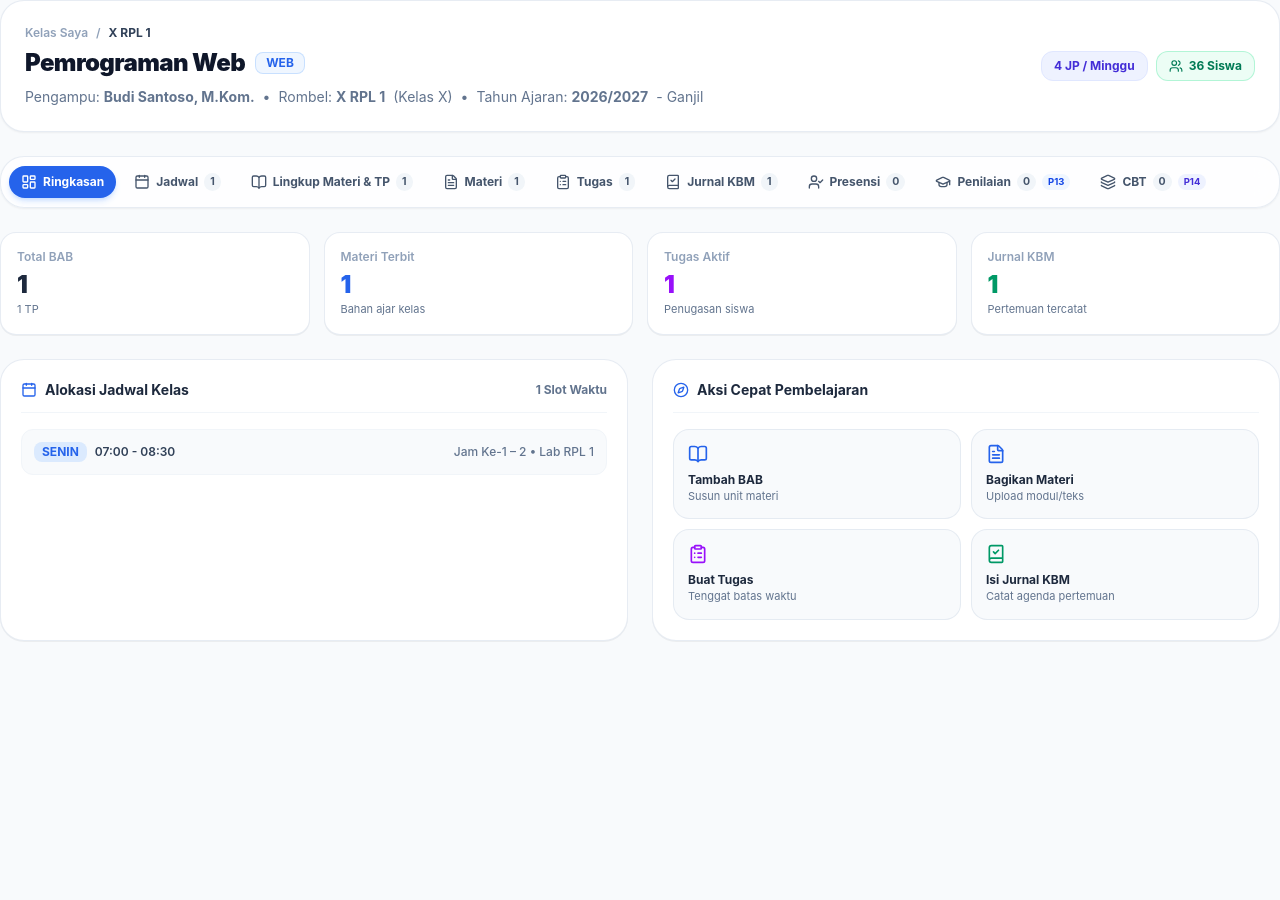
Test: M11 Learning Presentation Views › ClassWorkspaceView (/kelas-saya/[id]) › switches to Jurnal KBM tab and renders class journal entries
The width and height of the screenshot is (1280, 900).
Click the button "Jurnal KBM 1": (721, 182) left=653, top=165, right=790, bottom=199
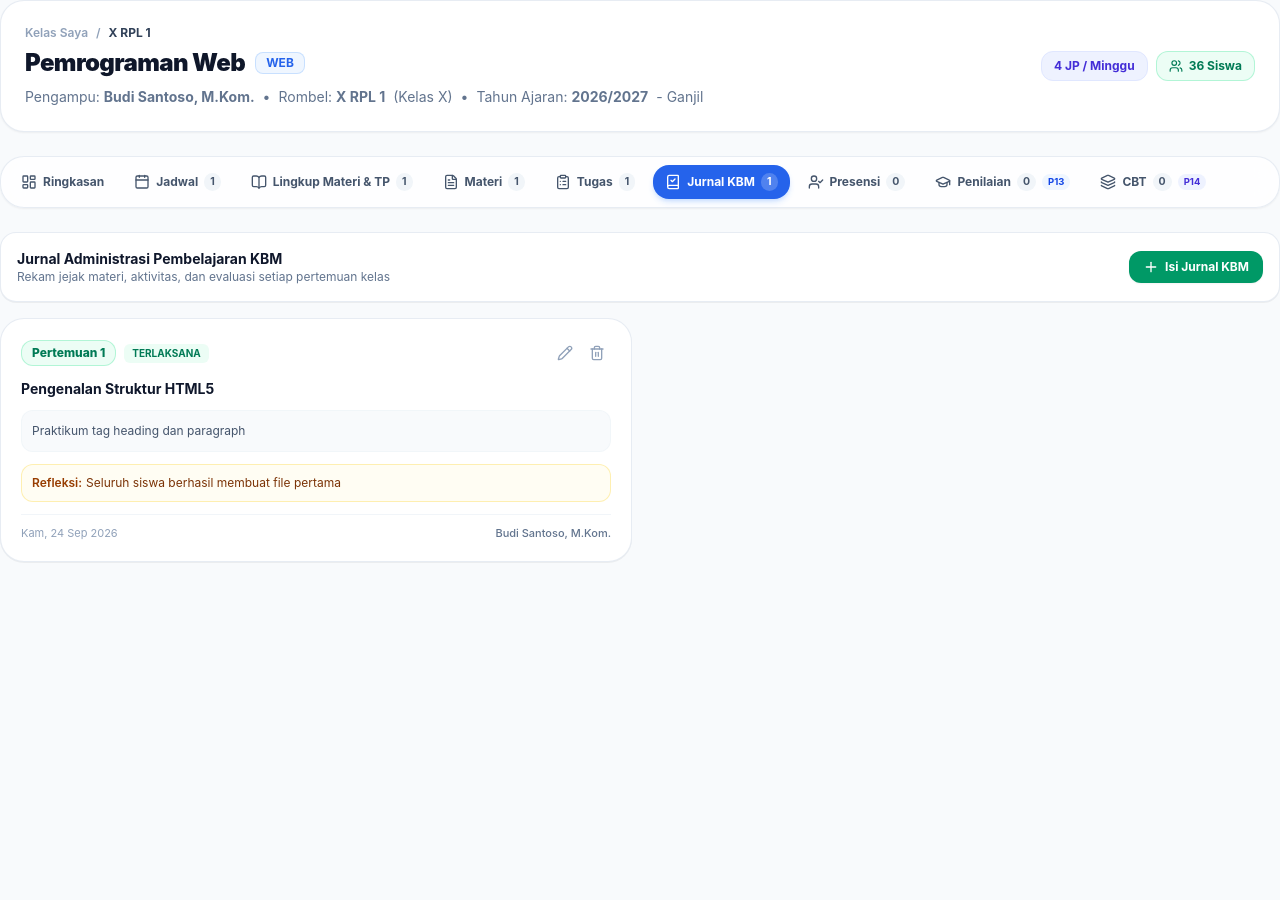
Expected: the text "Pertemuan 1" is shown, left=21, top=340, right=116, bottom=366
Expected: the heading "Pengenalan Struktur HTML5" is shown, left=21, top=380, right=214, bottom=397
Expected: the text "TERLAKSANA" is shown, left=124, top=344, right=209, bottom=362
